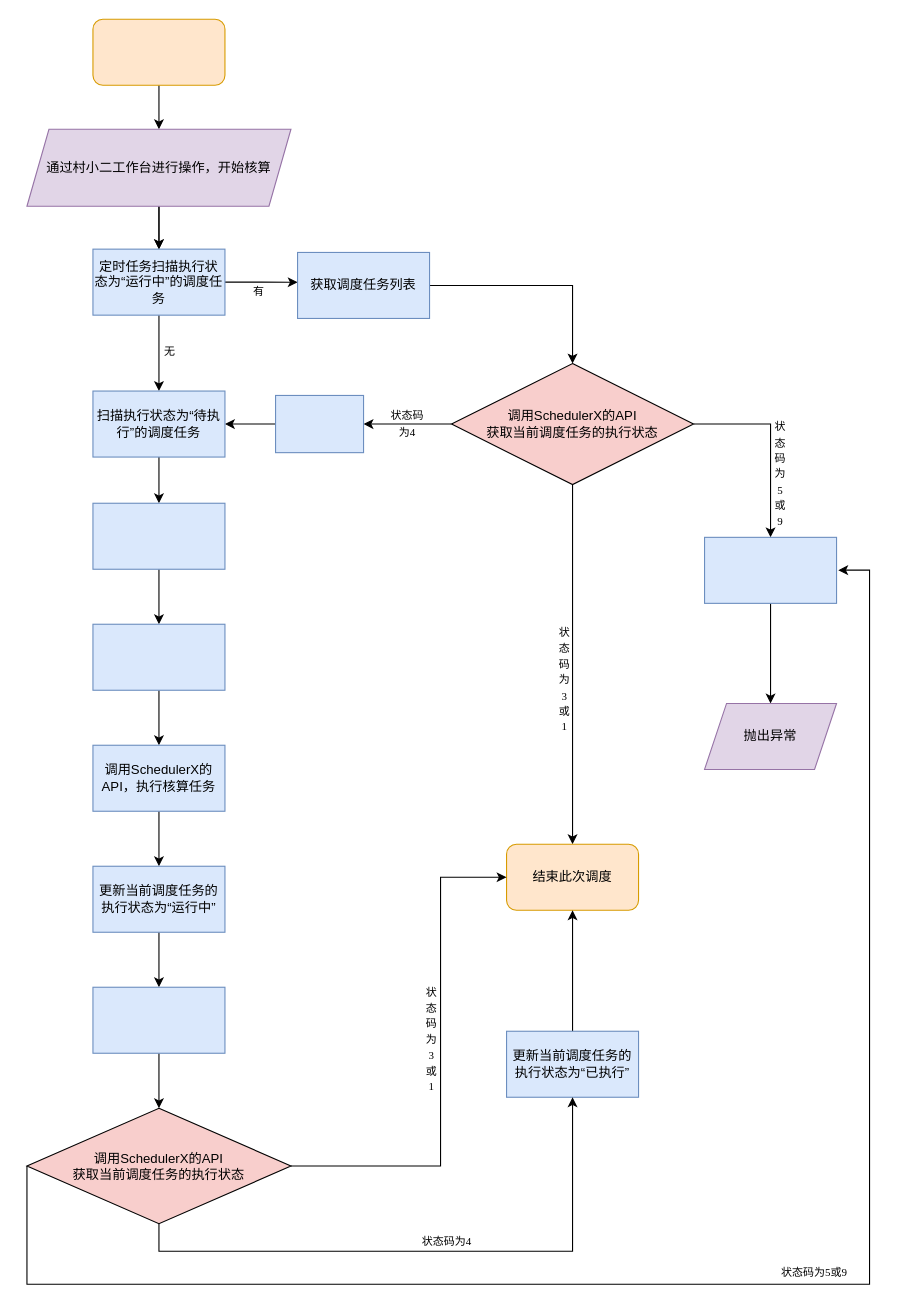
Some shapes in this 911 by 1312 pixel diagram are drawn without their labels. Here are the shapes that lost their labels. From the top down, the box of each, then its label:
(92, 18, 225, 85): 开始
(274, 394, 364, 453): 更新该调度任务的执行状态为“已执行”
(92, 502, 225, 569): 取出最近最晚使用的调度任务
(703, 536, 837, 603): 更新该调度任务的执行状态为“未执行”，等待再次核算
(92, 623, 225, 690): 调用ScheduleX的API，根据jobId更新该条核算任务的参数
(92, 986, 225, 1053): 更新当前调度任务的实例ID、executeJobTs
